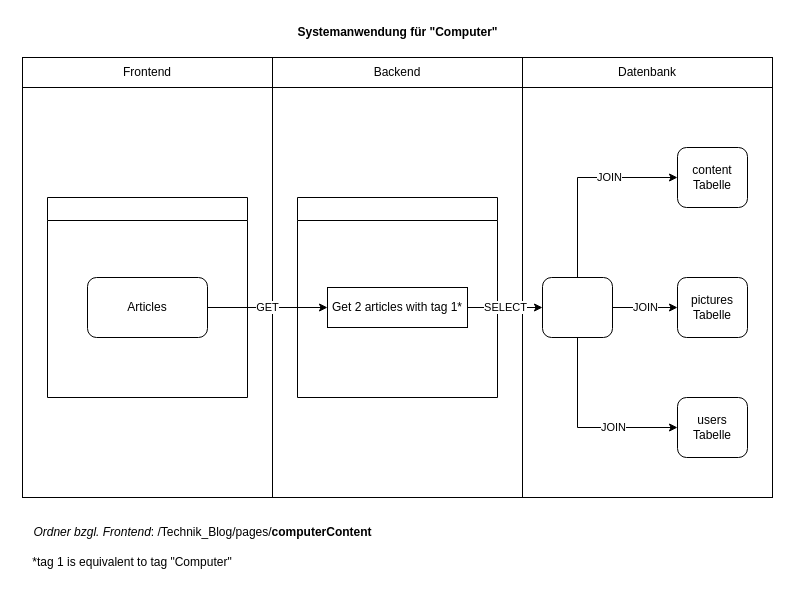
The diagram is 791 pixels wide and 594 high, and some of its shapes have lost their labels. Each missing label, with the box of its shape:
articles Tabelle: (542, 276, 612, 338)
databaseArticles.php: (296, 196, 498, 398)
Home: (46, 196, 248, 398)
